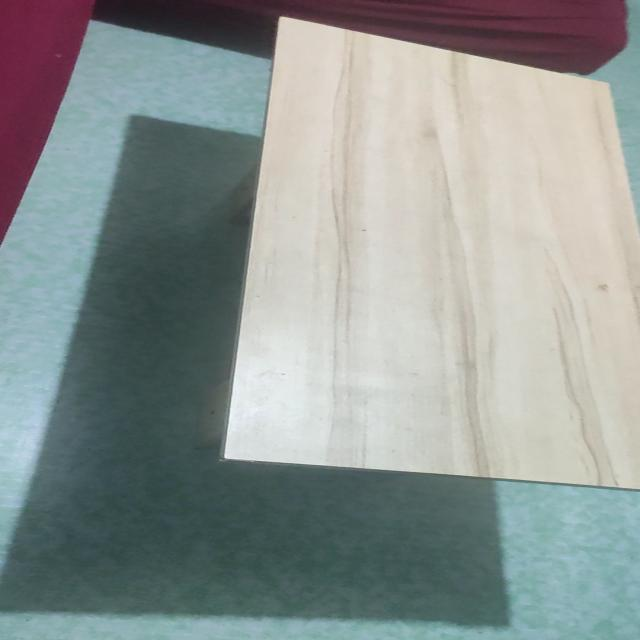table: (192, 14, 640, 530)
